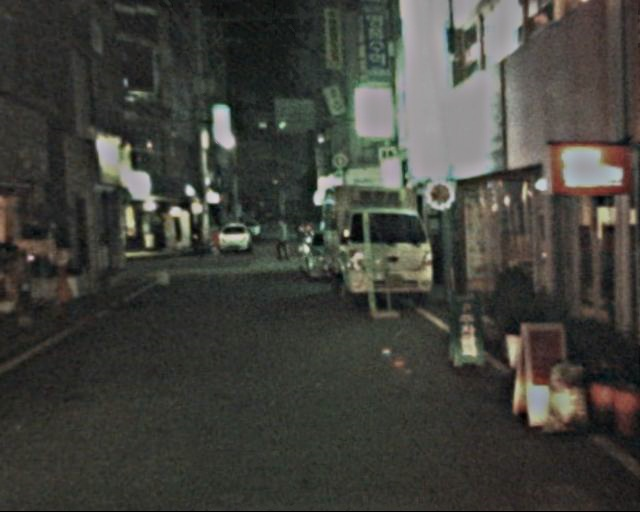person: (266, 216, 291, 267)
